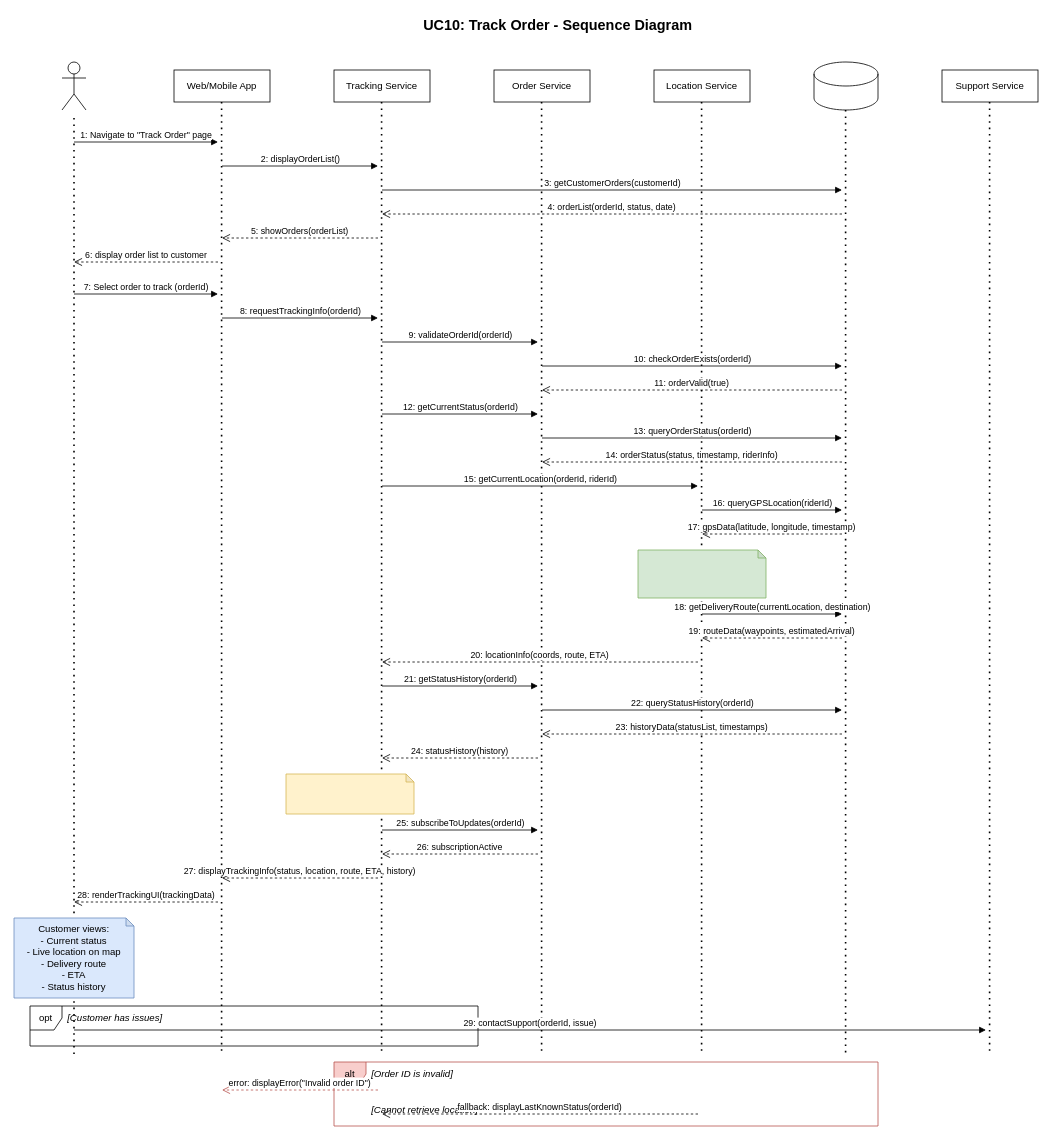
Some shapes in this 1052 by 1140 pixel diagram are drawn without their labels. The shapes that lost their labels are listed below. From the top down, each one's centre as x and y in pixels, then its label:
At point (73, 85): "Customer".
At point (845, 85): "Database".
At point (701, 573): "Calculate delivery route and ETA based on current location".
At point (349, 793): "Setup real-time updates via WebSocket/SSE".
